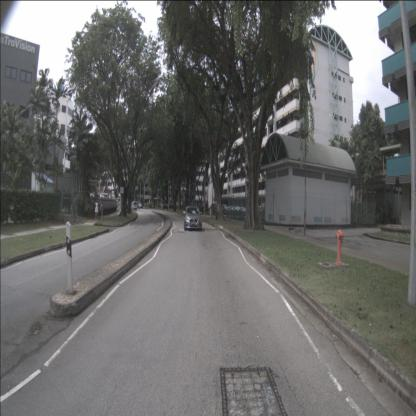human-pedestrian-adult: (94, 199, 99, 220), (100, 201, 104, 221)
vehicle-car: (184, 206, 202, 230), (235, 206, 248, 216), (98, 193, 109, 202), (222, 205, 228, 215), (131, 202, 137, 210)
